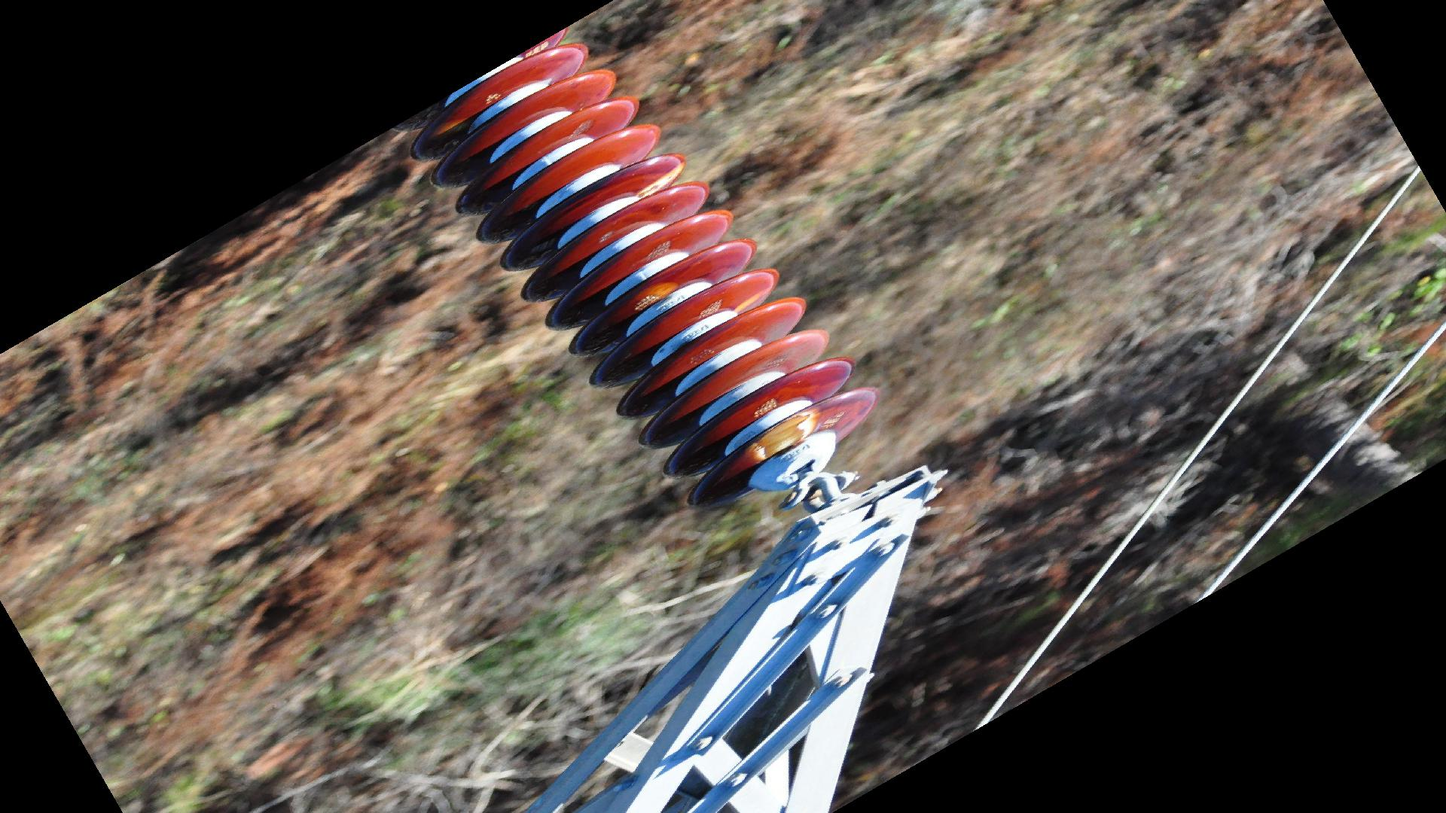insulator: (403, 26, 886, 516)
insulator_flashover: (754, 409, 815, 462), (635, 160, 687, 199), (628, 279, 679, 315), (733, 286, 771, 313)
